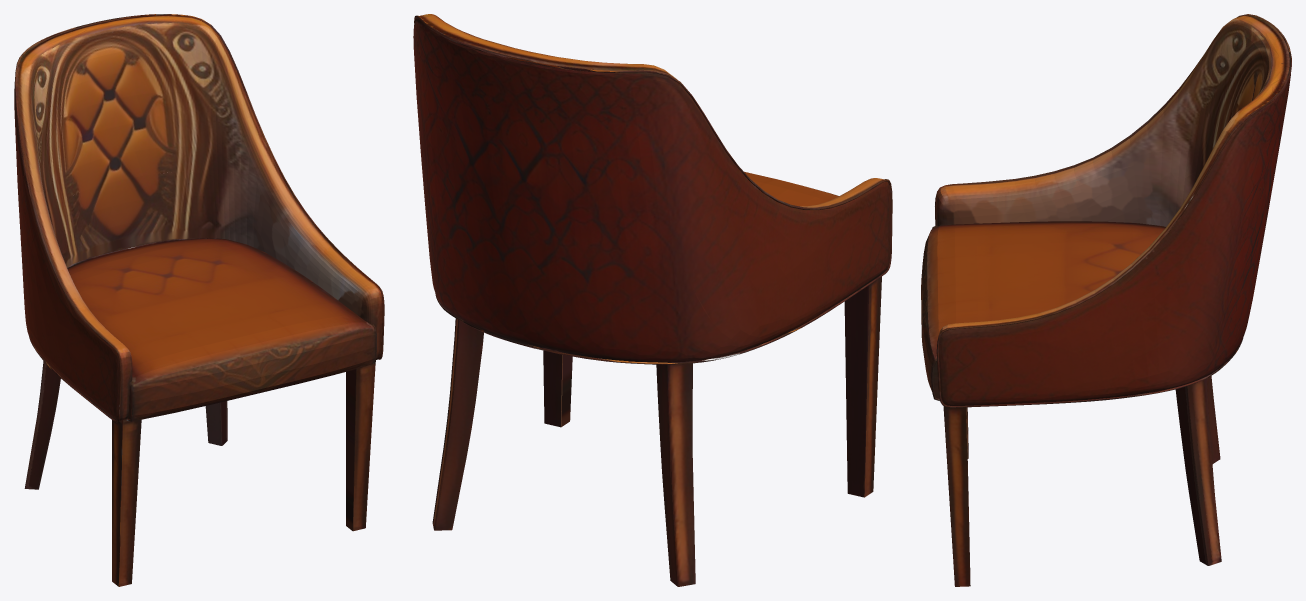
Rendered from edited_mesh.glb.
3 renders of one model, left to right at view 1: azimuth 30°, elevation 25°; view 2: azimuth 150°, elevation 25°; view 3: azimuth 270°, elevation 25°, orthographic. The views are drawn at different scales.
Visible parts, largest first — view 1: solid_001_wire; view 2: solid_001_wire; view 3: solid_001_wire.
Part boxes in pixels (left/top/right/bottom): solid_001_wire: left=14, top=14, right=384, bottom=586; solid_001_wire: left=413, top=14, right=892, bottom=586; solid_001_wire: left=921, top=14, right=1291, bottom=586.
Bounding box in the file's own units: 0.9742 × 1.47 × 1.07.
Materials: 1 (1 with a texture image).
